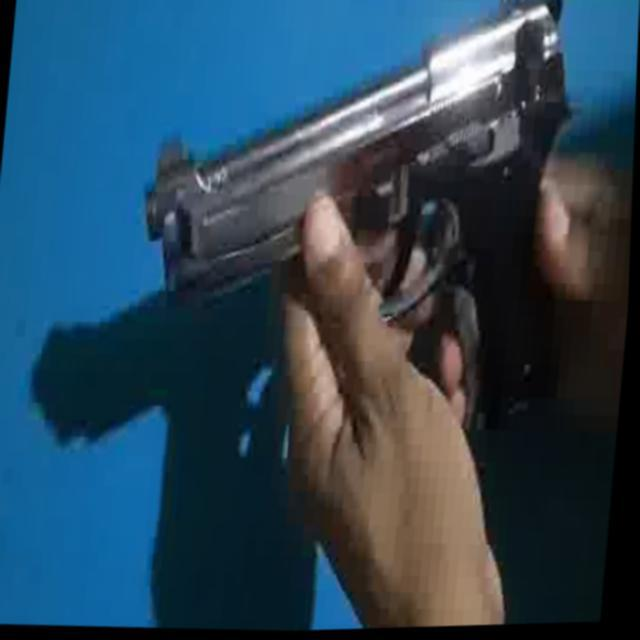weapon: (119, 0, 579, 514)
